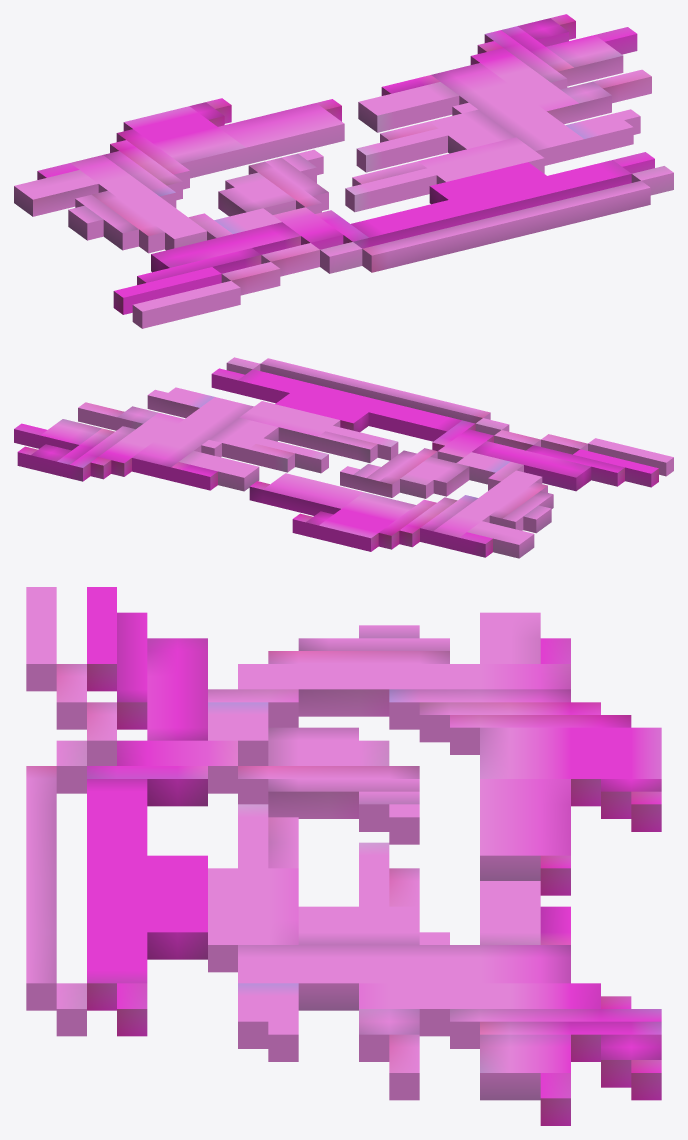
Rendered from BillboardModule_ChineseSymbol_E_00.fbx.
The picture shows the model from 3 angles, top to bottom: view 1: azimuth 30°, elevation 25°; view 2: azimuth 150°, elevation 25°; view 3: azimuth 270°, elevation 25°; orthographic projection. The views are drawn at different scales.
Parts seen in each view (by area): view 1: BillboardModule_ChineseSymbol_E_00; view 2: BillboardModule_ChineseSymbol_E_00; view 3: BillboardModule_ChineseSymbol_E_00.
Boxes of the visible parts, x1,y1,x2,y2 form: BillboardModule_ChineseSymbol_E_00: [14, 14, 673, 328]; BillboardModule_ChineseSymbol_E_00: [14, 357, 673, 558]; BillboardModule_ChineseSymbol_E_00: [26, 587, 661, 1125].
Bounding box in the file's own units: 200 × 5 × 105.
